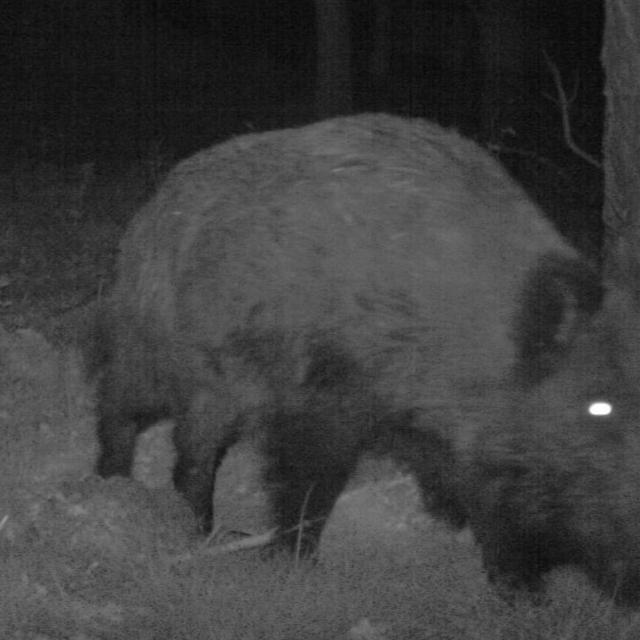pig: (64, 62, 640, 640)
